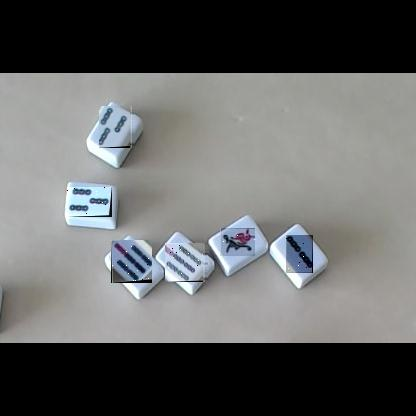1s: (220, 228, 255, 256)
2s: (286, 235, 313, 273)
3s: (100, 106, 135, 148), (67, 187, 112, 217)
7s: (111, 240, 152, 283), (166, 243, 208, 282)
